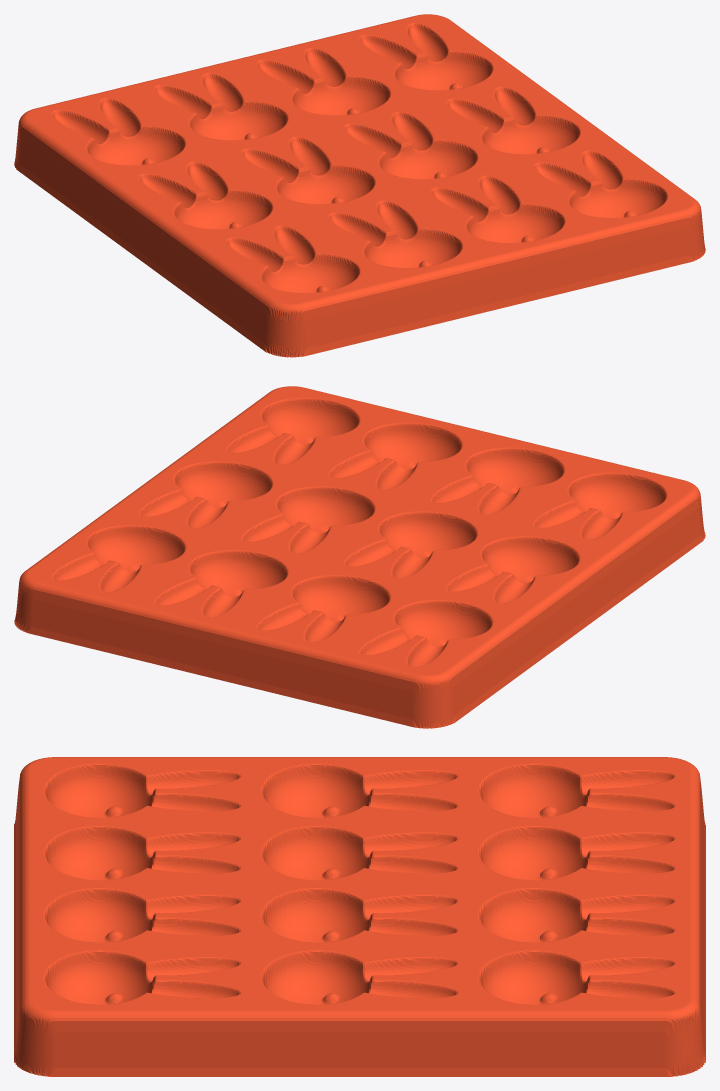
The model's file is mold.glb.
3 renders of one model, top to bottom at view 1: azimuth 30°, elevation 25°; view 2: azimuth 150°, elevation 25°; view 3: azimuth 270°, elevation 25°, orthographic. The views are drawn at different scales.
Parts seen in each view (by area): view 1: geometry_0; view 2: geometry_0; view 3: geometry_0.
Boxes of the visible parts, <box> form: geometry_0: <box>14,14,705,357</box>; geometry_0: <box>14,386,705,728</box>; geometry_0: <box>14,757,705,1076</box>.
Size of the model in its own units: 0.1387 by 0.0145 by 0.1524.
